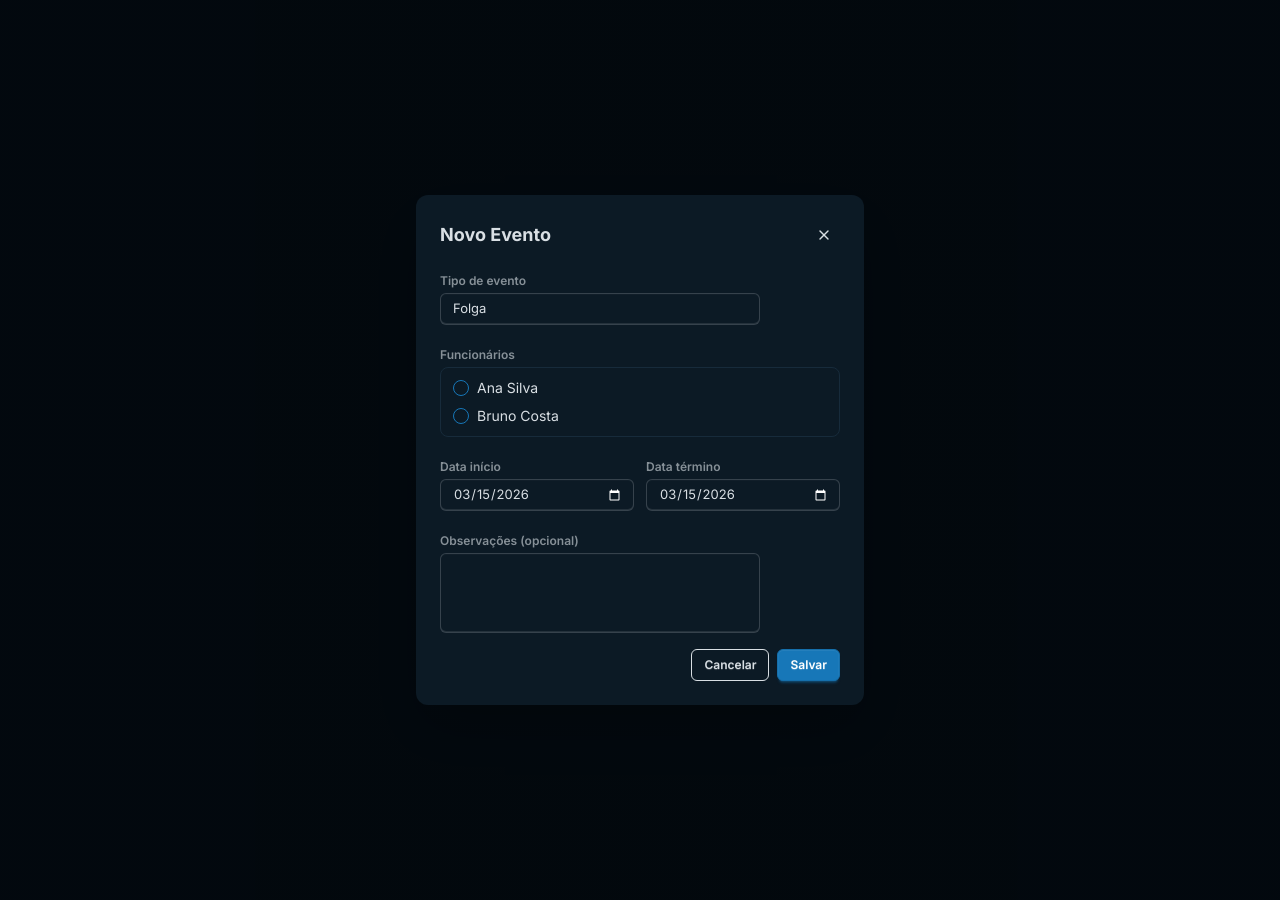
Test: exibe erro de validação ao submeter sem selecionar funcionário
Click the button "Salvar": [809, 665] box [778,649,840,681]
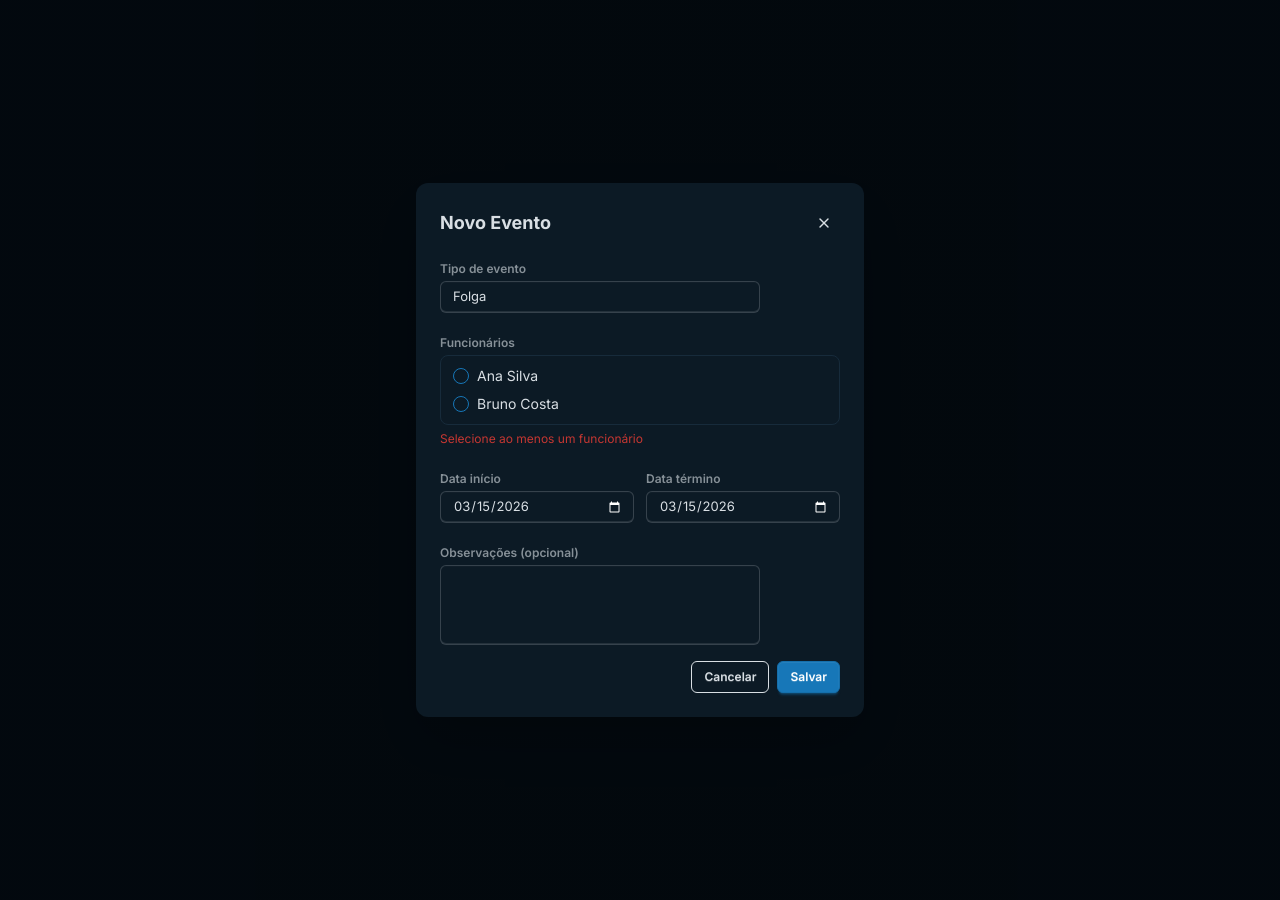
expect the text "Selecione ao menos um funcionário" is shown: met, box [440,431,643,446]
